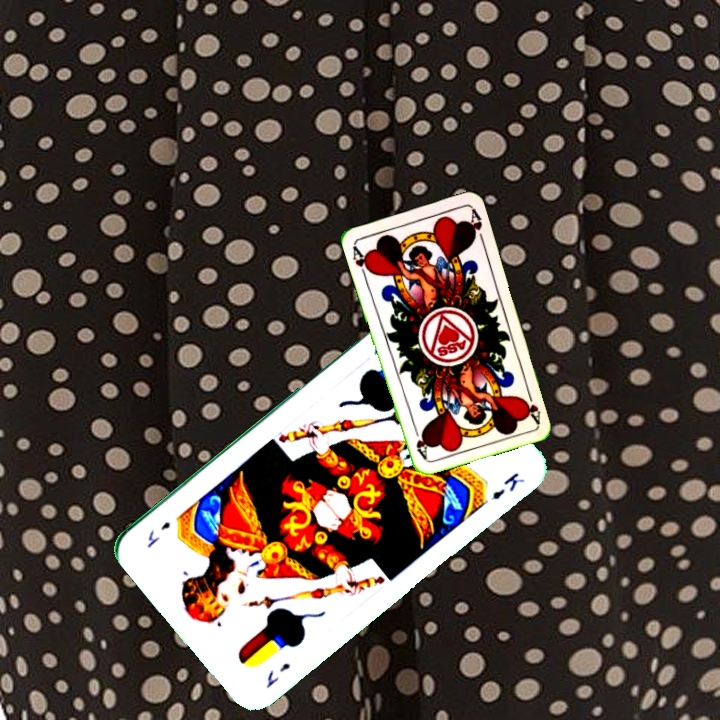EK: (262, 659, 293, 690)
HA: (348, 241, 374, 281), (519, 385, 543, 425)
